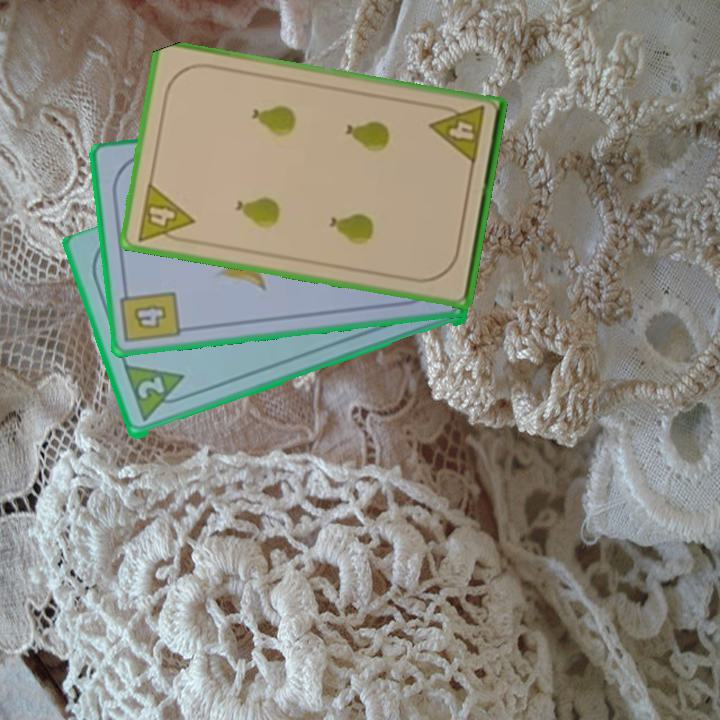2p: (133, 373, 167, 403)
4b: (117, 282, 183, 346)
4p: (133, 179, 197, 247), (427, 101, 488, 168)
